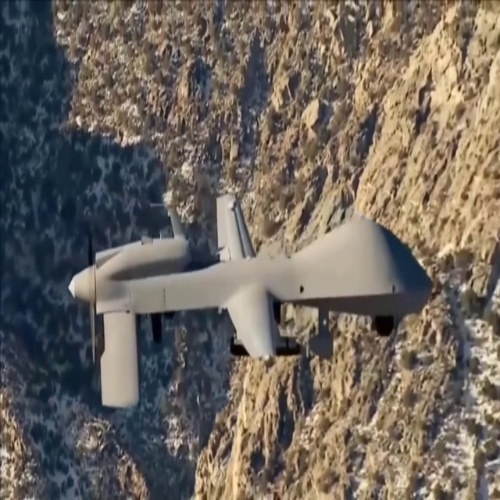uav: (63, 188, 438, 412)
